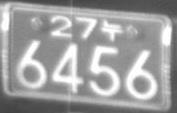2: (50, 14, 72, 38)
4: (51, 42, 84, 94)
5: (88, 44, 121, 96)
6: (126, 49, 158, 101), (16, 39, 48, 89)
7: (74, 15, 98, 39)
누: (100, 17, 122, 42)
